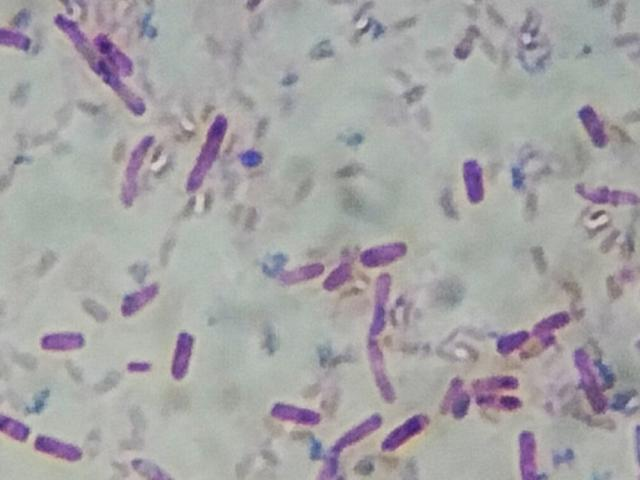E. coli: (363, 274, 402, 409), (188, 106, 229, 203), (114, 128, 160, 213), (568, 345, 611, 420), (324, 405, 383, 452), (377, 404, 428, 458), (575, 176, 640, 212), (268, 390, 323, 431), (579, 99, 615, 159), (36, 429, 89, 468), (55, 15, 97, 62), (458, 147, 489, 210), (275, 252, 328, 287), (116, 284, 166, 321), (364, 235, 413, 271), (167, 329, 198, 385), (42, 327, 92, 361), (528, 307, 580, 339), (102, 30, 144, 69), (468, 367, 525, 395), (437, 368, 462, 416), (474, 391, 524, 414), (494, 327, 532, 356), (323, 257, 353, 292), (0, 407, 29, 443), (3, 24, 34, 54), (455, 385, 470, 426)
